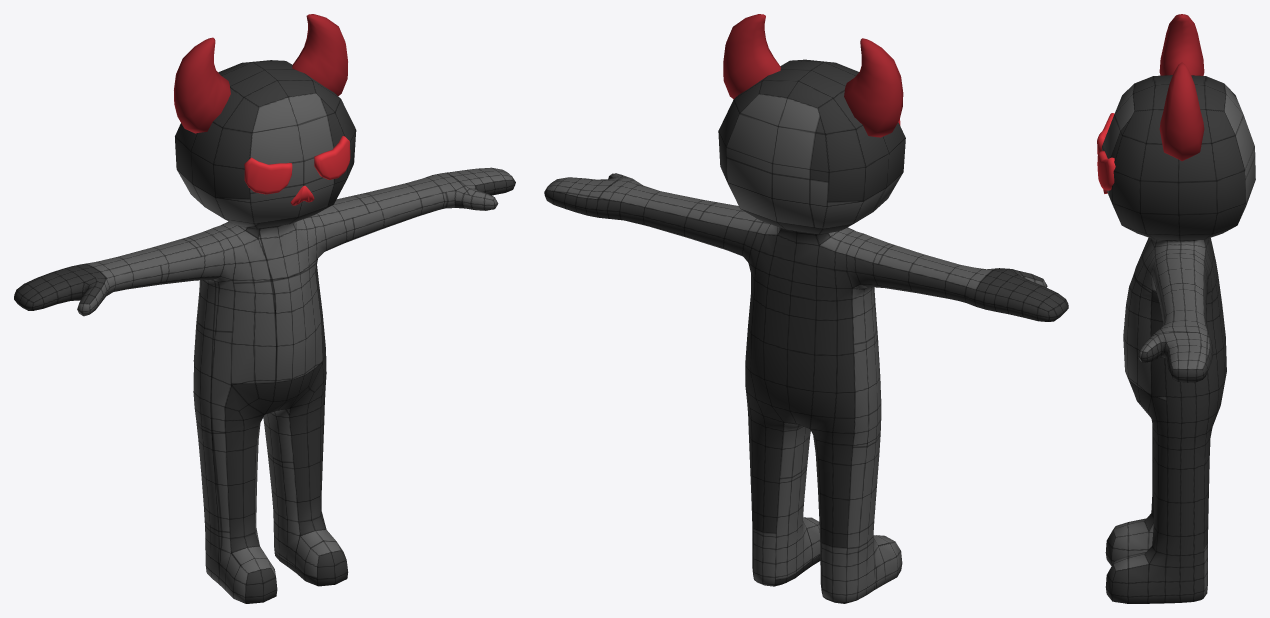
The model's file is Boss.fbx.
The picture shows the model from 3 angles, left to right: view 1: azimuth 30°, elevation 25°; view 2: azimuth 150°, elevation 25°; view 3: azimuth 270°, elevation 25°; orthographic projection. The views are drawn at different scales.
Visible parts, largest first — view 1: Boss; view 2: Boss; view 3: Boss.
Boxes of the visible parts, left/top/right/bottom form: Boss: left=14, top=14, right=515, bottom=603; Boss: left=544, top=14, right=1068, bottom=603; Boss: left=1097, top=14, right=1255, bottom=603.
Bounding box in the file's own units: 302 × 316 × 84.08.
Materials: 3 (1 with a texture image).
